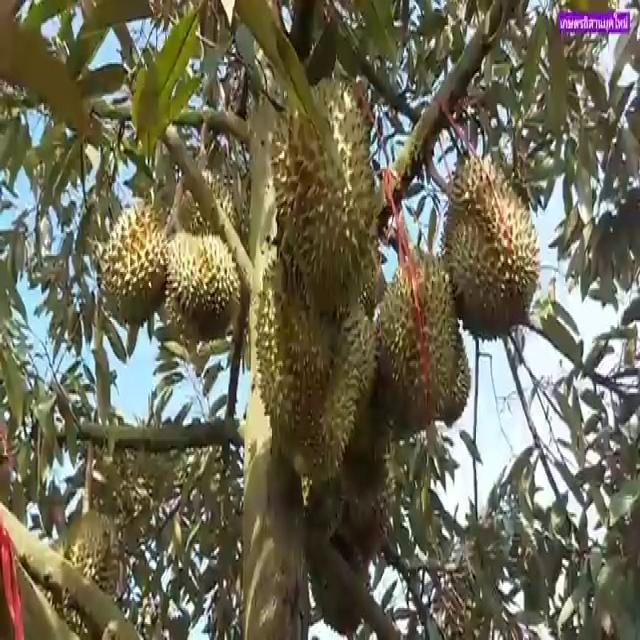durian: (254, 245, 368, 494), (270, 70, 382, 320), (440, 148, 544, 348), (372, 240, 458, 433), (32, 502, 124, 638), (147, 226, 247, 340), (93, 195, 173, 334)
